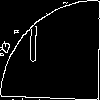I: (25, 25, 41, 72)
